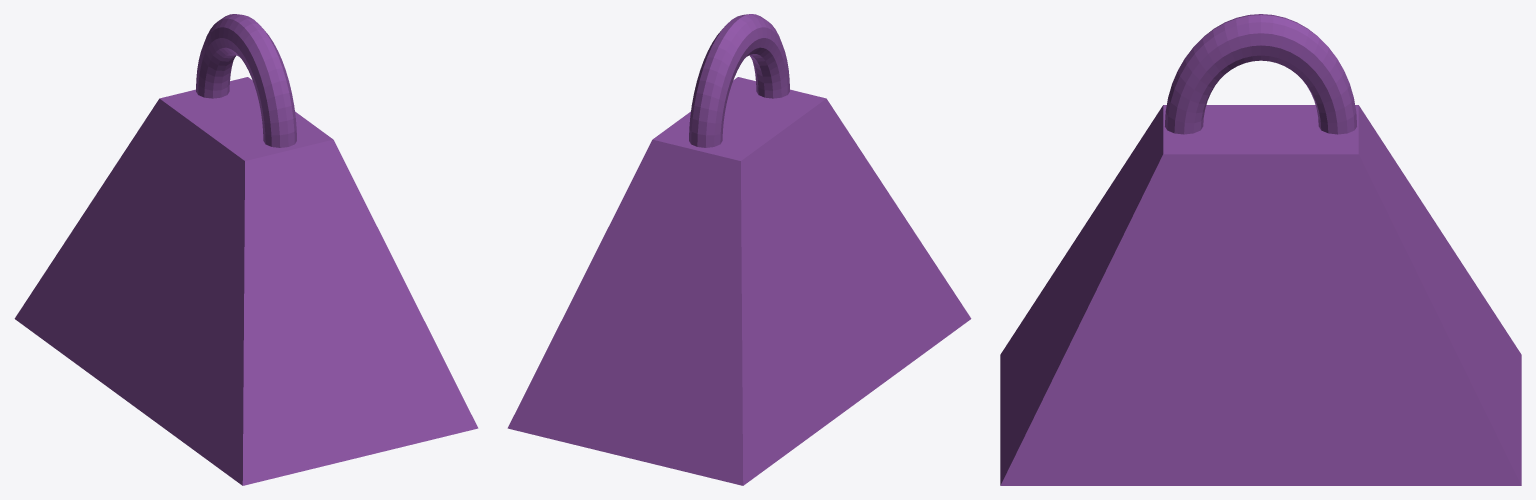
The model's file is BOLSO.fbx.
3 renders of one model, left to right at view 1: azimuth 30°, elevation 25°; view 2: azimuth 150°, elevation 25°; view 3: azimuth 270°, elevation 25°, orthographic. The views are drawn at different scales.
Visible parts, largest first — view 1: Torus; view 2: Torus; view 3: Torus.
Boxes of the visible parts, left/top/right/bottom form: Torus: left=14, top=14, right=478, bottom=485; Torus: left=507, top=14, right=971, bottom=485; Torus: left=1000, top=14, right=1521, bottom=485.
Bounding box in the file's own units: 112 × 162 × 189.
